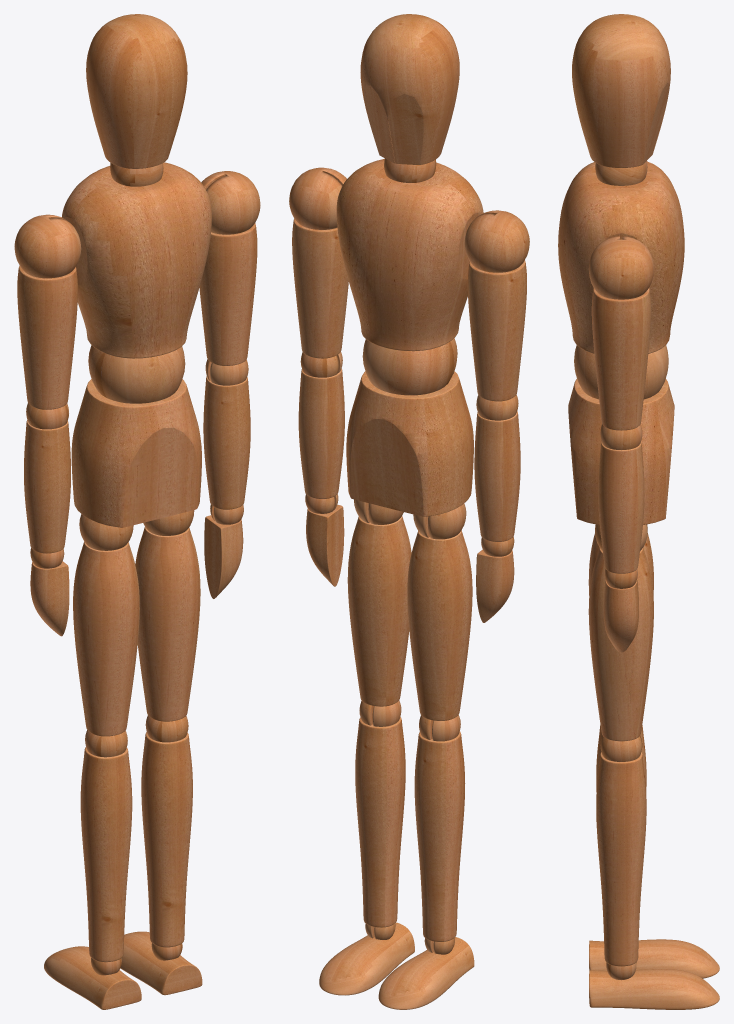
File: man_main0_def.fbx
3 views of the same model, side by side, from view 1: azimuth 30°, elevation 25°; view 2: azimuth 150°, elevation 25°; view 3: azimuth 270°, elevation 25° (orthographic). The views are drawn at different scales.
Visible parts, largest first — view 1: Chest, Waist, Head, LThigh, RThigh, RLeg, LLeg, LUArm, RUArm, RFArm, LFArm, Spine (+13 smaller); view 2: Chest, Waist, Head, LThigh, RThigh, RLeg, LLeg, LUArm, RUArm, LFArm, RFArm, Spine (+13 smaller); view 3: Chest, Head, RLeg, RThigh, Waist, RUArm, RFArm, RFoot, RUArmJoint, LFoot, RHand, Spine (+6 smaller).
Boxes of the visible parts, x1,y1,x2,y2 form: Chest: (61,162,211,358); Waist: (71,379,201,527); Head: (86,14,187,168); LThigh: (73,541,139,736); RThigh: (135,527,200,721); RLeg: (141,732,192,947); LLeg: (80,747,132,962); LUArm: (17,265,77,409); RUArm: (199,223,257,365); RFArm: (203,376,250,509); LFArm: (24,420,70,553); Spine: (88,345,185,403); Chest: (336,159,483,351); Waist: (346,371,473,516); Head: (360,14,459,164); LThigh: (407,530,472,720); RThigh: (347,516,411,706); RLeg: (355,717,405,927); LLeg: (414,731,465,941); LUArm: (467,260,526,401); RUArm: (292,218,348,358); LFArm: (474,411,520,541); RFArm: (298,368,344,498); Spine: (362,338,457,395); Chest: (558,161,684,353); Head: (572,14,670,167); RLeg: (596,752,646,966); RThigh: (588,547,653,741); Waist: (568,378,674,524); RUArm: (591,288,650,430); RFArm: (598,441,644,573); RFoot: (589,969,719,1009); RUArmJoint: (588,236,653,299); LFoot: (589,939,719,978); RHand: (603,578,638,652); Spine: (574,345,668,399).
Bounding box in the file's own units: 44.7 × 175 × 26.62.
Materials: 1 (1 with a texture image).
